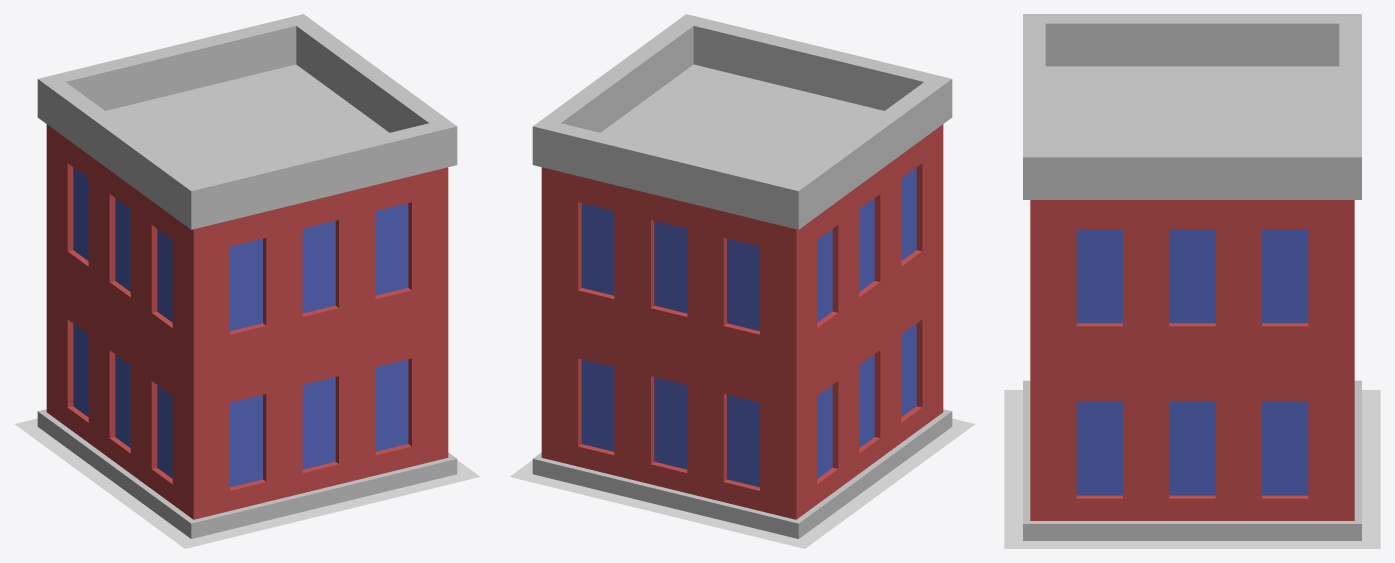
Rendered from Building01.fbx.
The picture shows the model from 3 angles, left to right: view 1: azimuth 30°, elevation 25°; view 2: azimuth 150°, elevation 25°; view 3: azimuth 270°, elevation 25°; orthographic projection. The views are drawn at different scales.
Parts seen in each view (by area): view 1: Plane.001, Plane.002; view 2: Plane.001, Plane.002; view 3: Plane.001, Plane.002.
Part boxes in pixels (bbox=[...]): Plane.001: bbox=[37, 14, 457, 538]; Plane.002: bbox=[15, 418, 479, 548]; Plane.001: bbox=[532, 14, 952, 538]; Plane.002: bbox=[510, 418, 974, 548]; Plane.001: bbox=[1023, 14, 1361, 540]; Plane.002: bbox=[1004, 390, 1380, 548].
Size of the model in its own units: 800 by 900 by 800.
